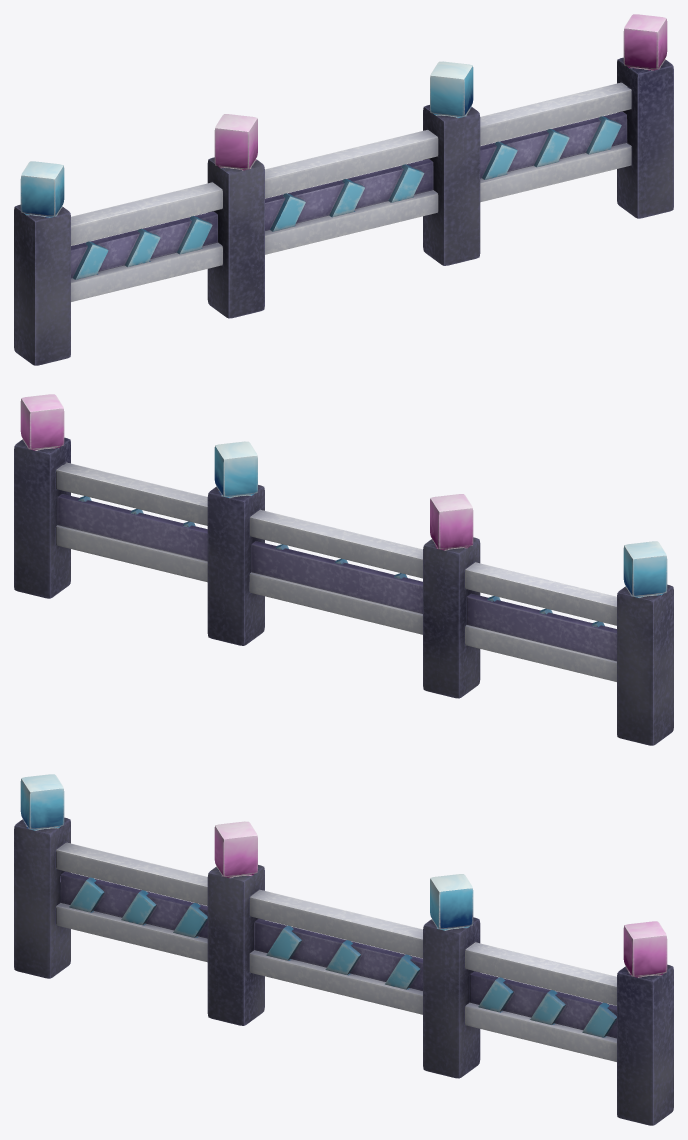
The model's file is Cosmos_Barriere.fbx.
The picture shows the model from 3 angles, top to bottom: view 1: azimuth 30°, elevation 25°; view 2: azimuth 150°, elevation 25°; view 3: azimuth 330°, elevation 25°; orthographic projection.
Visible parts, largest first — view 1: Cosmos_Barriere; view 2: Cosmos_Barriere; view 3: Cosmos_Barriere.
Part boxes in pixels (x1,y1,x2,y2): Cosmos_Barriere: (14, 14, 673, 365); Cosmos_Barriere: (14, 394, 673, 745); Cosmos_Barriere: (14, 774, 673, 1125).
Size of the model in its own units: 1201 by 330 by 80.97.
1 material, 1 textured.
